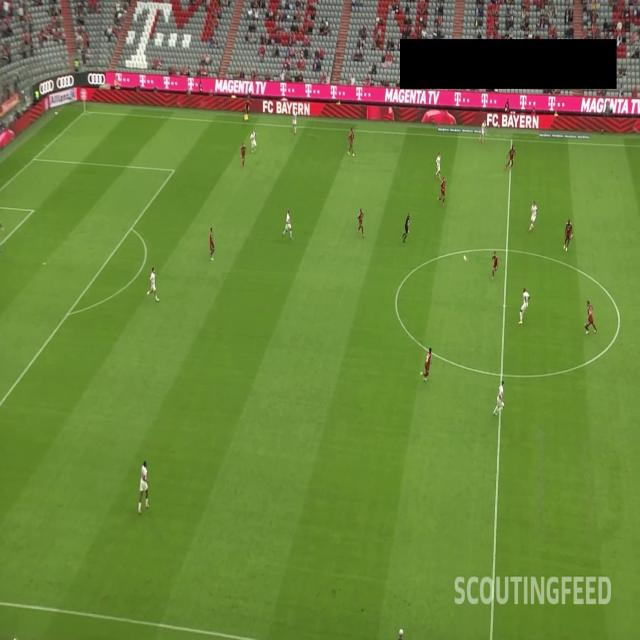ball: (460, 250, 470, 268)
player: (136, 453, 151, 515), (416, 343, 434, 389), (144, 262, 162, 305), (517, 283, 532, 328), (491, 378, 507, 418), (584, 296, 600, 336), (561, 212, 575, 254), (280, 204, 295, 240), (353, 203, 368, 238), (526, 195, 539, 233), (489, 246, 501, 286), (206, 224, 218, 262), (346, 118, 356, 159), (504, 138, 516, 172), (247, 125, 259, 159), (436, 172, 446, 207), (478, 116, 490, 144), (238, 136, 248, 168), (434, 152, 443, 178), (292, 111, 300, 135)
referee: (399, 206, 412, 246), (244, 96, 251, 125)
